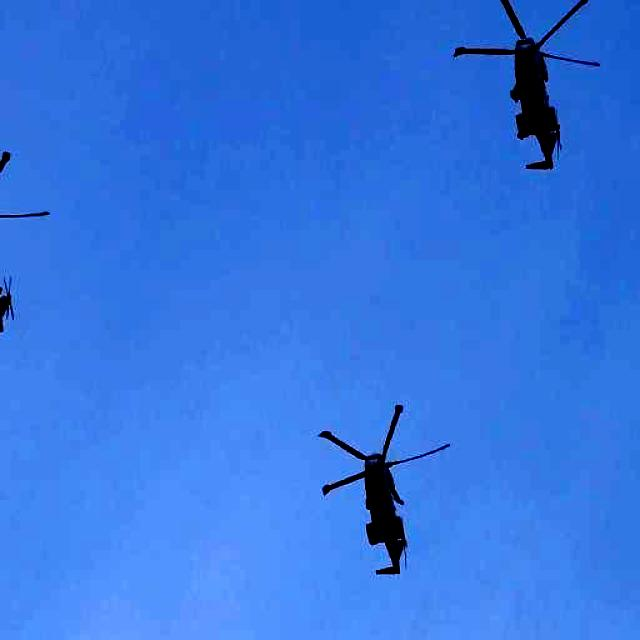drone: (458, 0, 608, 185), (318, 400, 454, 581), (0, 142, 50, 344)
